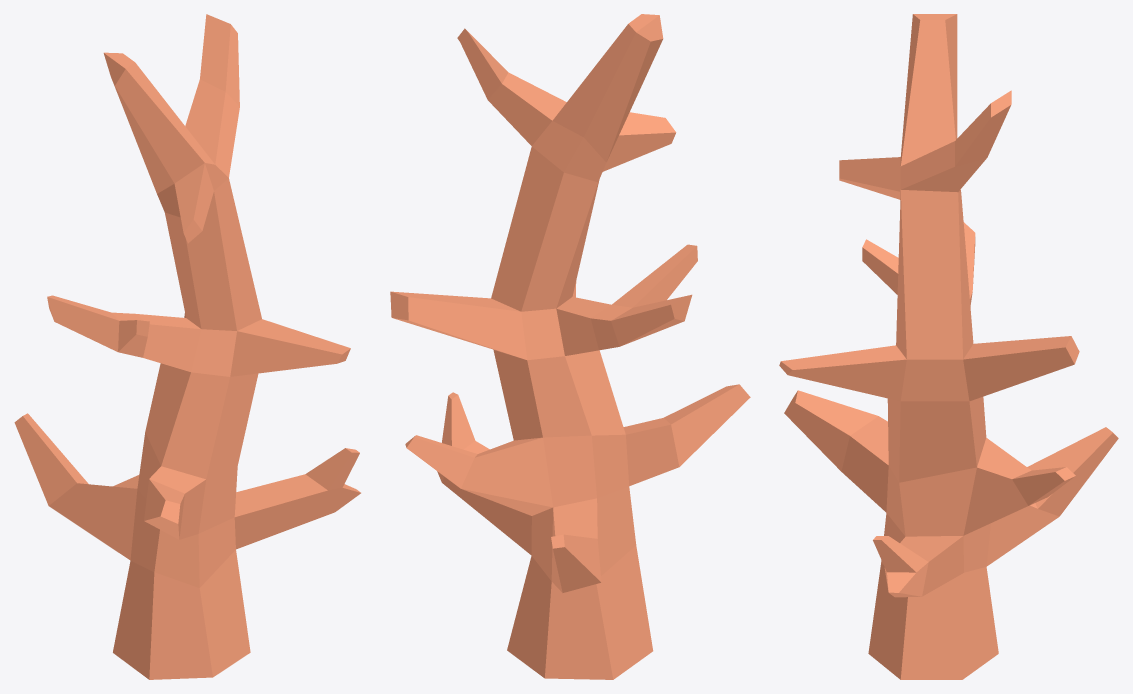
Rendered from tree09.fbx.
3 views of the same model, side by side, from view 1: azimuth 30°, elevation 25°; view 2: azimuth 150°, elevation 25°; view 3: azimuth 270°, elevation 25° (orthographic). The views are drawn at different scales.
Visible parts, largest first — view 1: tree01; view 2: tree01; view 3: tree01.
Part boxes in pixels (box(x1,y1,x2,y2)): tree01: box(14, 14, 360, 679); tree01: box(390, 14, 750, 679); tree01: box(779, 14, 1118, 679).
Size of the model in its own units: 1.37 by 2.87 by 1.45.
